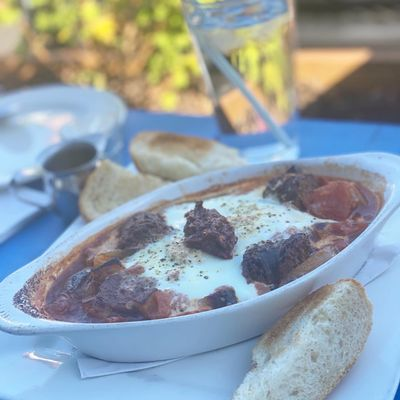sushi: (10, 152, 396, 375), (0, 82, 130, 189)
